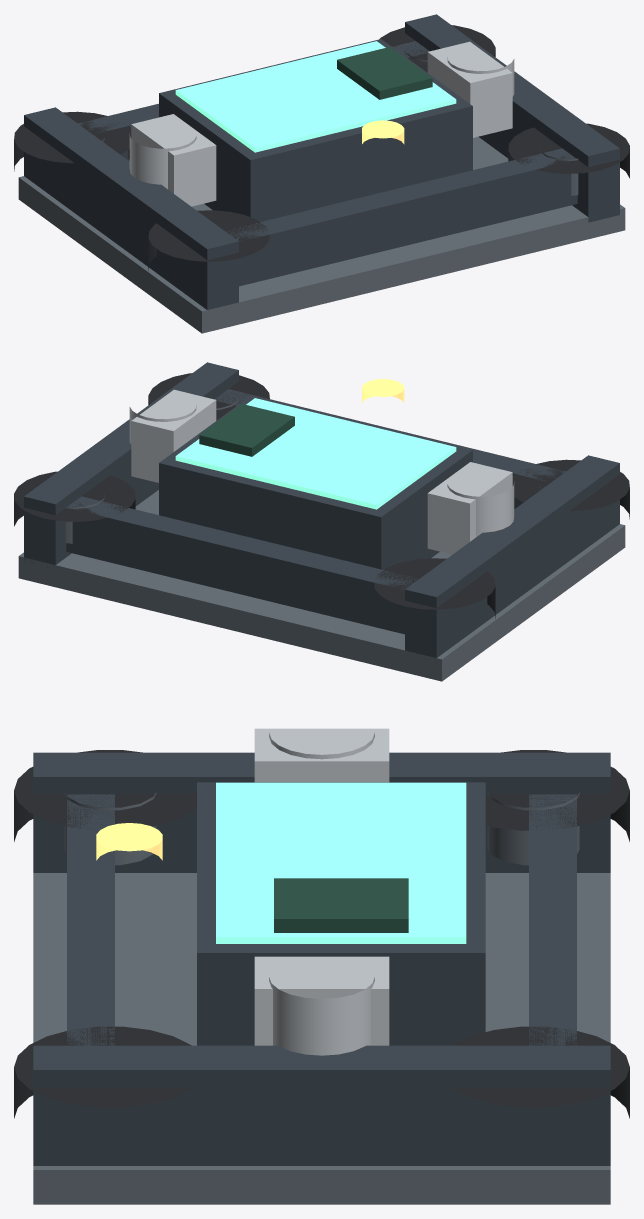
Rendered from drive-chassis.glb.
The picture shows the model from 3 angles, top to bottom: view 1: azimuth 30°, elevation 25°; view 2: azimuth 150°, elevation 25°; view 3: azimuth 270°, elevation 25°; orthographic projection. The views are drawn at different scales.
Visible parts, largest first — view 1: FloorPan, BatteryPack, CrossMemberF, RailL, BatteryTrim, RailR, MotorMountR, MotorMountL, BMS, Wheel_-0.34_0.22, Wheel_0.34_0.22, Wheel_-0.34_-0.22 (+4 smaller); view 2: FloorPan, CrossMemberR, BatteryPack, RailL, BatteryTrim, RailR, MotorMountR, MotorMountL, BMS, Wheel_-0.34_-0.22, Wheel_0.34_-0.22, Wheel_-0.34_0.22 (+4 smaller); view 3: RailR, FloorPan, BatteryTrim, RailL, BatteryPack, CrossMemberR, CrossMemberF, BMS, MotorMountR, MotorMountL, CableTray, Wheel_0.34_-0.22 (+7 smaller).
Part boxes in pixels (x1=…): FloorPan: x1=18, y1=137, x2=625, y2=333; BatteryPack: x1=159, y1=39, x2=472, y2=221; CrossMemberF: x1=226, y1=148, x2=577, y2=286; RailL: x1=24, y1=107, x2=238, y2=309; BatteryTrim: x1=175, y1=41, x2=456, y2=152; RailR: x1=405, y1=14, x2=619, y2=222; MotorMountR: x1=427, y1=41, x2=512, y2=137; MotorMountL: x1=131, y1=114, x2=216, y2=206; BMS: x1=337, y1=47, x2=432, y2=99; Wheel_-0.34_0.22: x1=148, y1=210, x2=269, y2=270; Wheel_0.34_0.22: x1=508, y1=123, x2=629, y2=178; Wheel_-0.34_-0.22: x1=14, y1=111, x2=131, y2=171; FloorPan: x1=18, y1=490, x2=625, y2=681; CrossMemberR: x1=66, y1=496, x2=417, y2=634; BatteryPack: x1=159, y1=396, x2=472, y2=569; RailL: x1=405, y1=455, x2=619, y2=657; BatteryTrim: x1=175, y1=398, x2=456, y2=509; RailR: x1=24, y1=362, x2=238, y2=568; MotorMountR: x1=131, y1=389, x2=216, y2=482; MotorMountL: x1=427, y1=462, x2=512, y2=554; BMS: x1=199, y1=404, x2=294, y2=456; Wheel_-0.34_-0.22: x1=374, y1=558, x2=495, y2=618; Wheel_0.34_-0.22: x1=14, y1=471, x2=135, y2=526; Wheel_-0.34_0.22: x1=512, y1=459, x2=629, y2=519; RailR: x1=33, y1=1045, x2=610, y2=1165; FloorPan: x1=33, y1=873, x2=610, y2=1204; BatteryTrim: x1=216, y1=782, x2=466, y2=943; RailL: x1=33, y1=752, x2=610, y2=872; BatteryPack: x1=197, y1=782, x2=485, y2=1045; CrossMemberR: x1=529, y1=794, x2=576, y2=1045; CrossMemberF: x1=67, y1=794, x2=114, y2=1045; BMS: x1=274, y1=878, x2=408, y2=932; MotorMountR: x1=254, y1=956, x2=389, y2=1045; MotorMountL: x1=254, y1=728, x2=389, y2=782; CableTray: x1=158, y1=879, x2=196, y2=1045; Wheel_0.34_-0.22: x1=451, y1=1026, x2=629, y2=1118.
Size of the model in its own units: 0.878 by 0.235 by 0.64.
